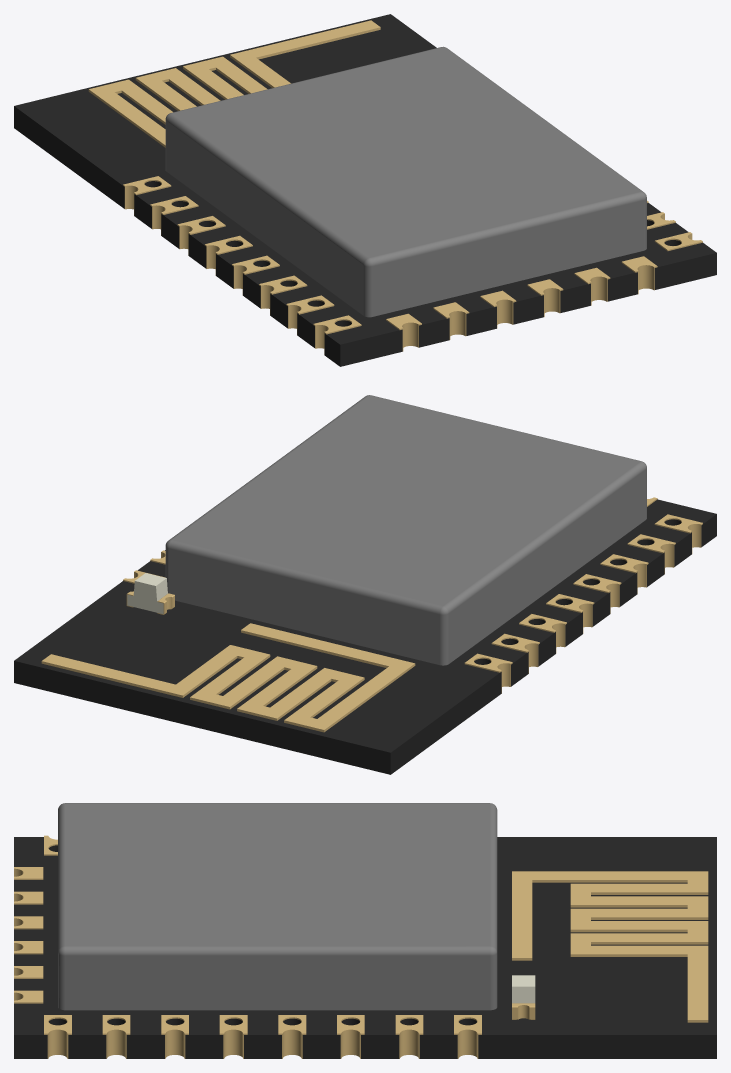
Rendered from ESP-12E.glb.
3 renders of one model, top to bottom at view 1: azimuth 30°, elevation 25°; view 2: azimuth 150°, elevation 25°; view 3: azimuth 270°, elevation 25°, orthographic. The views are drawn at different scales.
Visible parts, largest first — view 1: =>[0:1:1:3]; view 2: =>[0:1:1:3]; view 3: =>[0:1:1:3].
Part boxes in pixels (x1=…): =>[0:1:1:3]: x1=14, y1=14, x2=716, y2=366; =>[0:1:1:3]: x1=14, y1=395, x2=716, y2=774; =>[0:1:1:3]: x1=14, y1=803, x2=716, y2=1058.
Size of the model in its own units: 0.016 by 0.0032 by 0.024.
